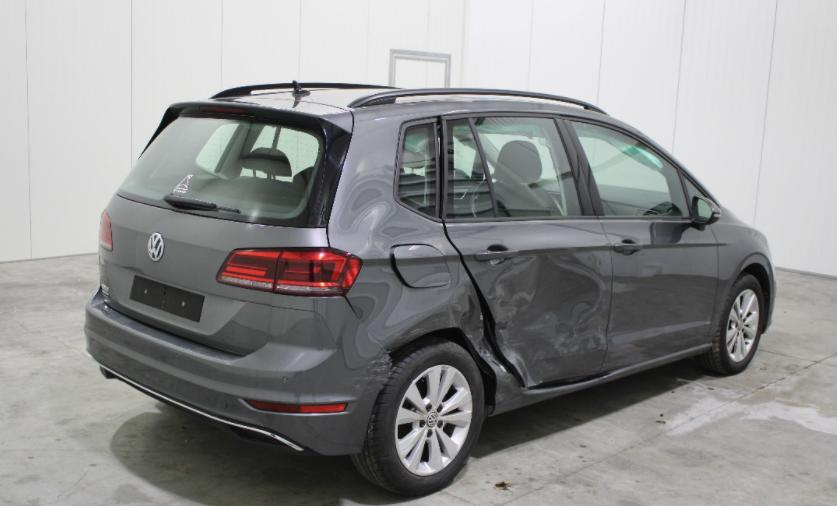Back-bumper: (84, 287, 391, 460)
Back-door: (444, 113, 613, 386)
Back-wheel: (353, 335, 486, 496)
Back-window: (448, 117, 583, 219), (398, 118, 435, 214)
Back-windshield: (116, 117, 320, 226)
Fender: (708, 208, 775, 342)
Front-door: (565, 117, 719, 374)
Front-wheel: (701, 273, 766, 376)
Front-window: (570, 122, 706, 216)
License-plate: (131, 274, 203, 321)
Mirror: (689, 197, 721, 225)
Quarter-panel: (329, 202, 523, 403)
Rocker-panel: (489, 343, 712, 417)
Roof: (265, 88, 621, 119)
Tail-light: (271, 250, 359, 296), (218, 247, 281, 289), (98, 211, 112, 250)
Trunk: (101, 96, 352, 358)
